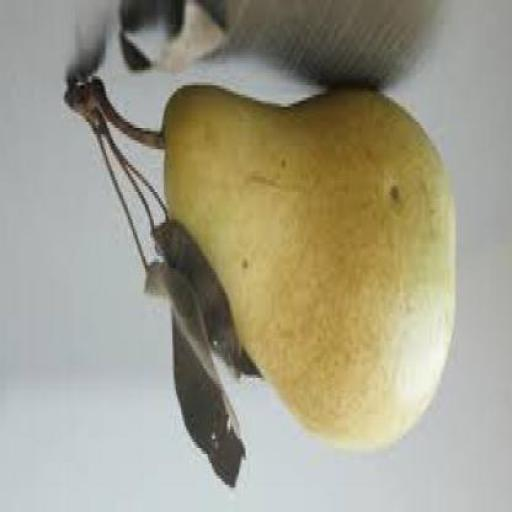biodegradable: (160, 83, 458, 454), (145, 260, 246, 494), (154, 219, 269, 384)
